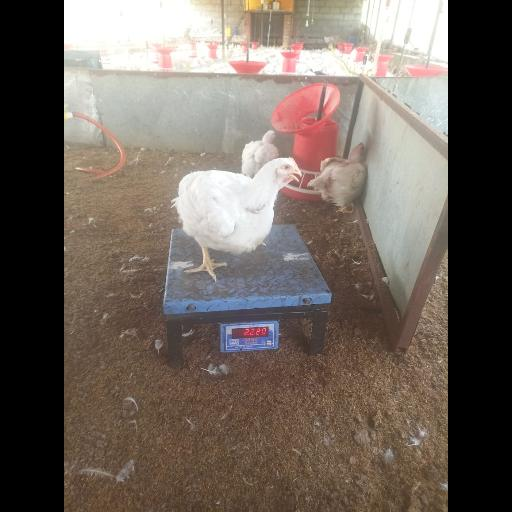chick: (177, 157, 303, 284)
